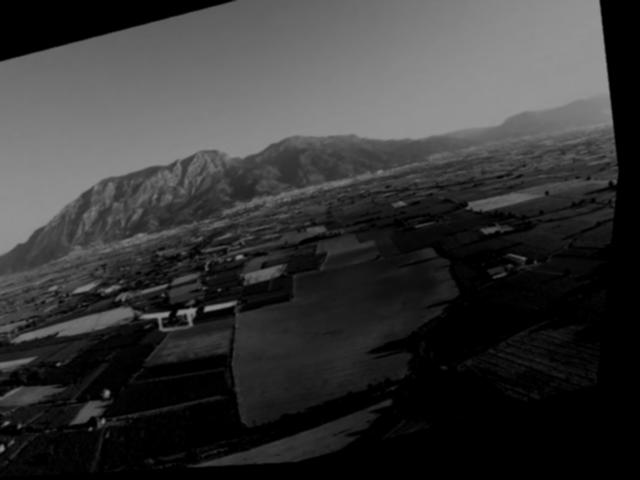hedef: (131, 283, 256, 354)
